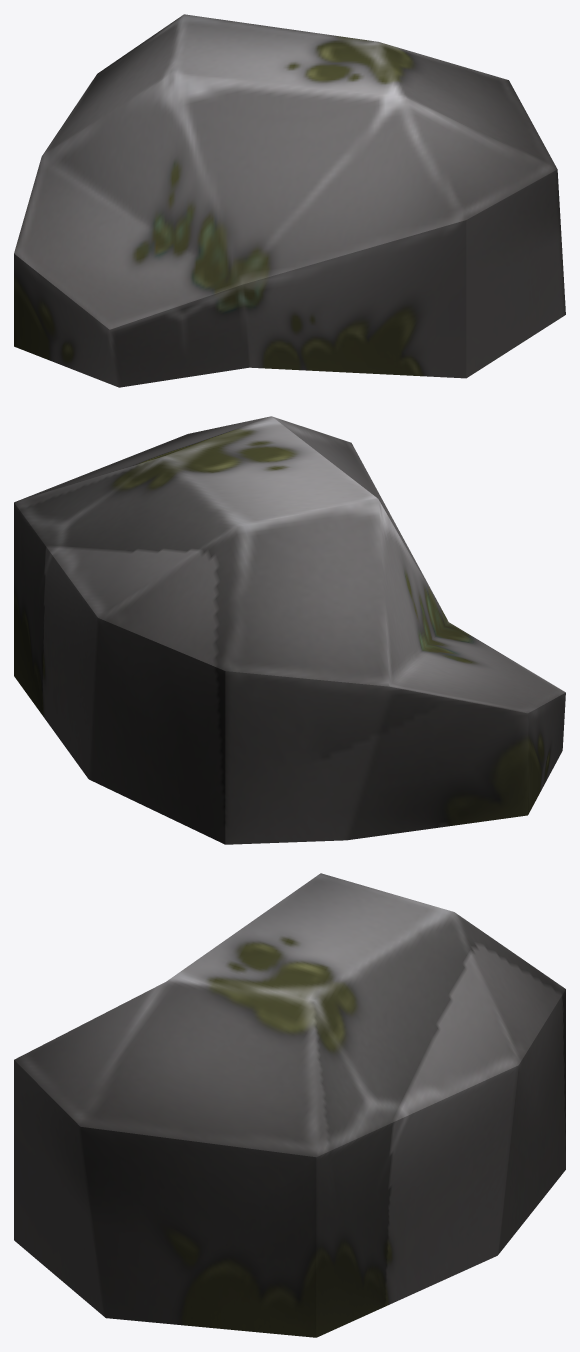
Rendered from stone02.fbx.
3 views of the same model, one above another, from view 1: azimuth 30°, elevation 25°; view 2: azimuth 150°, elevation 25°; view 3: azimuth 270°, elevation 25° (orthographic). The views are drawn at different scales.
Visible parts, largest first — view 1: stone02; view 2: stone02; view 3: stone02.
Boxes of the visible parts, bbox=[...] form: stone02: bbox=[14, 14, 565, 387]; stone02: bbox=[14, 416, 565, 844]; stone02: bbox=[14, 873, 565, 1337].
Size of the model in its own units: 28.39 by 13.77 by 24.71.
1 material, 1 textured.
